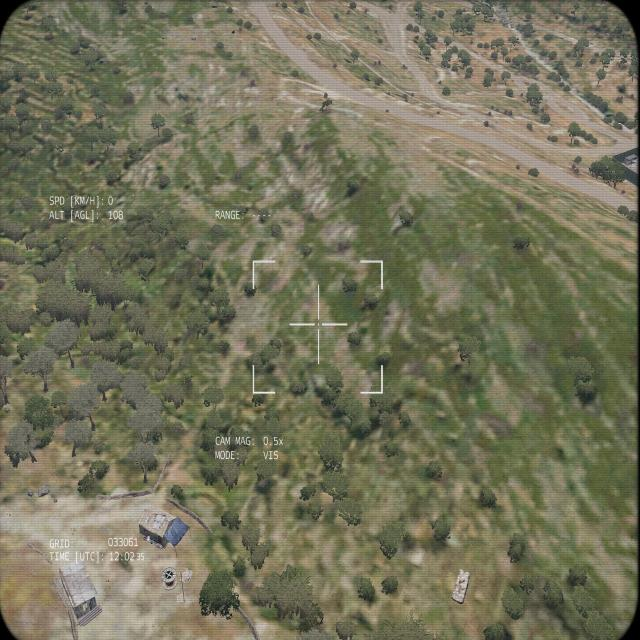apc: (450, 567, 470, 603)
